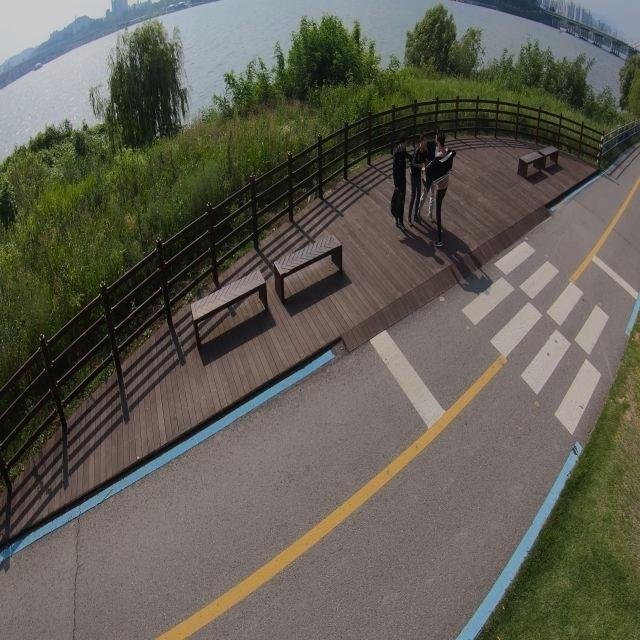fight: (390, 130, 451, 246)
